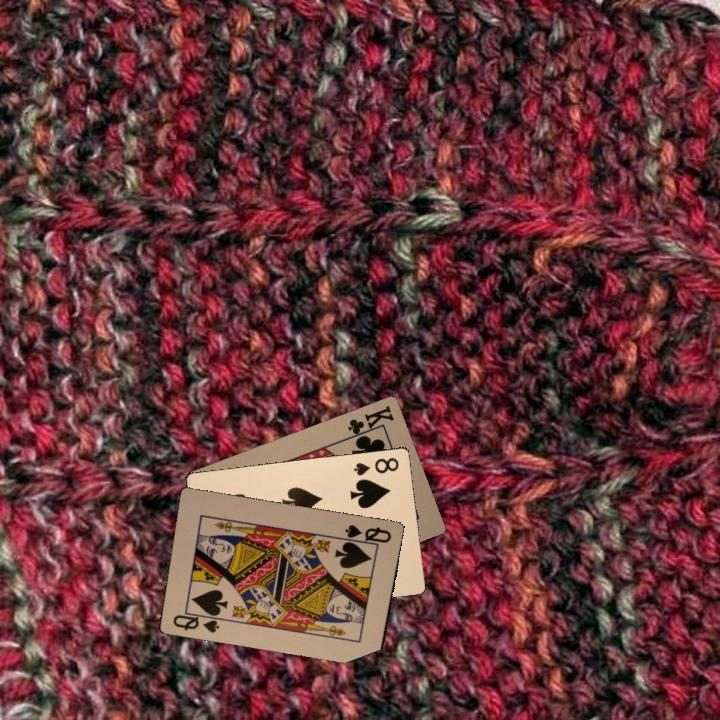8s: (350, 453, 401, 478)
Kc: (344, 401, 398, 442)
Qs: (338, 520, 394, 548), (169, 606, 223, 635)
